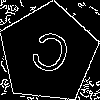C: (23, 28, 75, 85)
